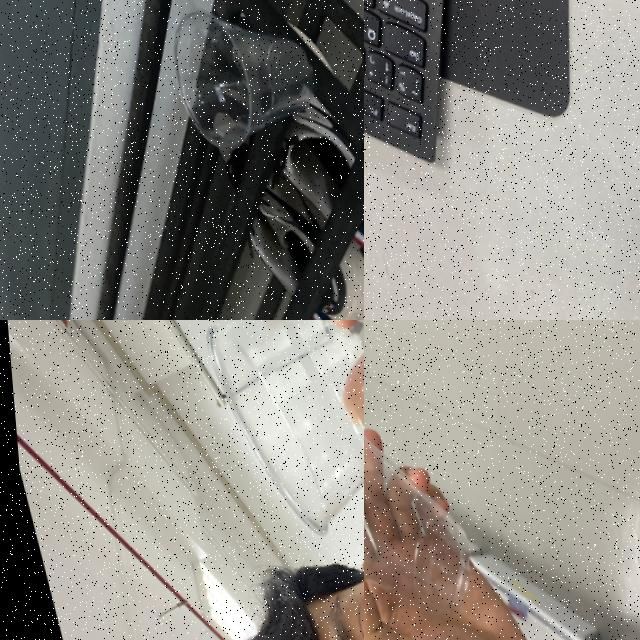glass: (169, 320, 364, 563), (364, 320, 491, 640), (146, 0, 327, 163)
